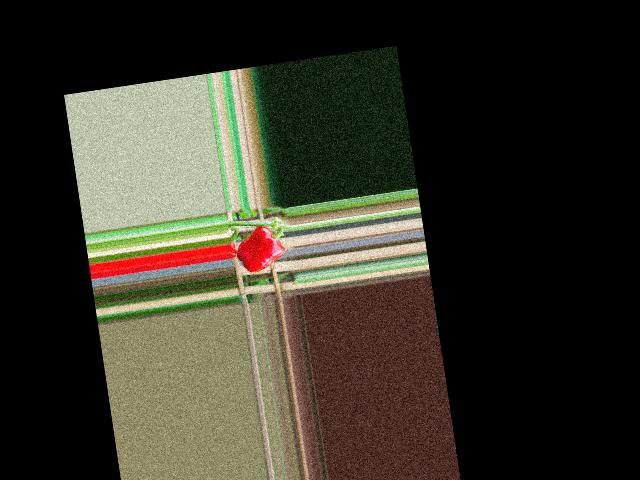bell_pepper: (233, 219, 288, 277)
